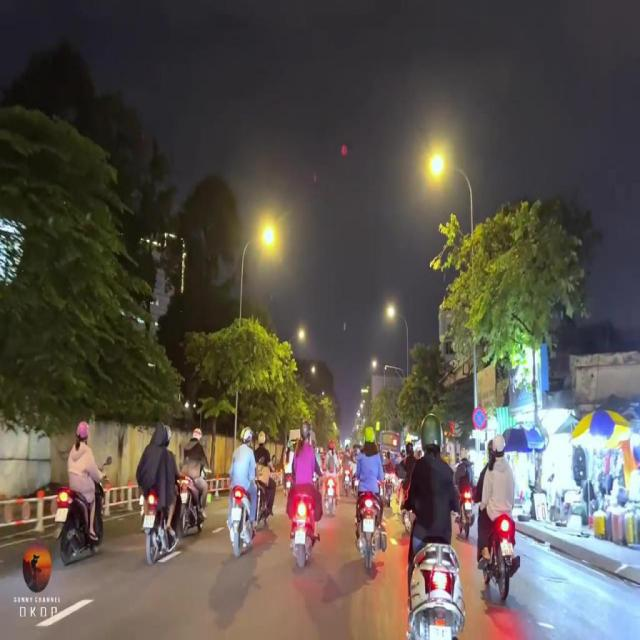cam_dung_xe_va_do_xe: (472, 406, 487, 429)
